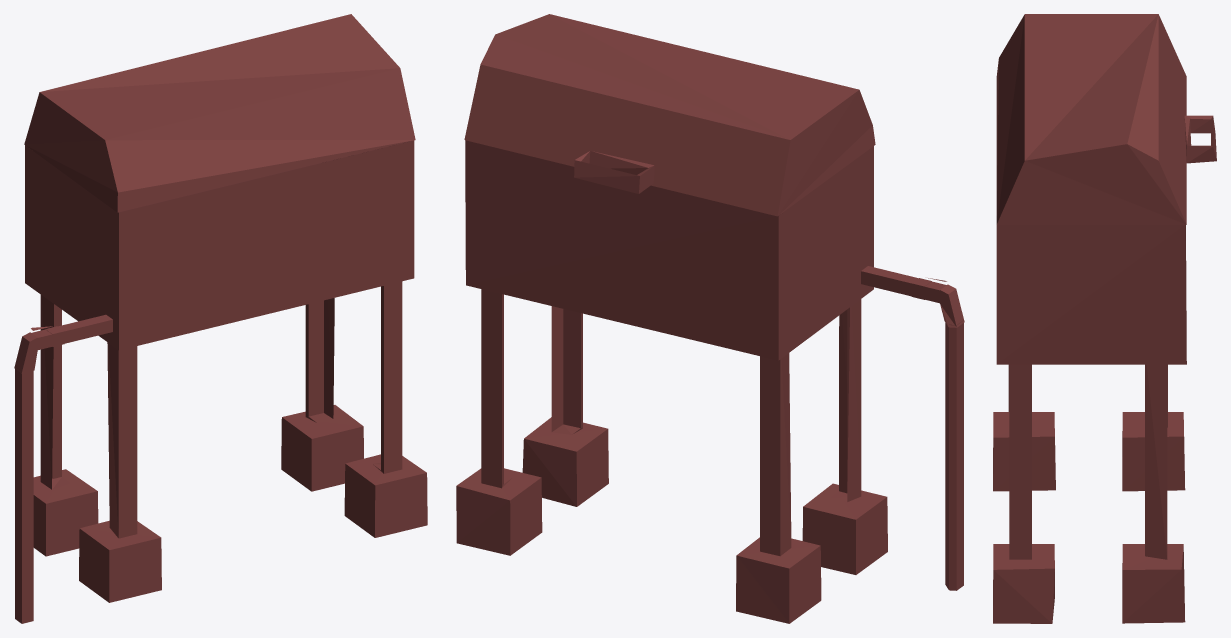
File: hose-reel.lod1.glb
3 views of the same model, side by side, from view 1: azimuth 30°, elevation 25°; view 2: azimuth 150°, elevation 25°; view 3: azimuth 270°, elevation 25° (orthographic). The views are drawn at different scales.
Visible parts, largest first — view 1: Cube.037_Material.024_0; view 2: Cube.037_Material.024_0; view 3: Cube.037_Material.024_0.
Part boxes in pixels (x1,y1,x2,y2): Cube.037_Material.024_0: (14, 14, 427, 623); Cube.037_Material.024_0: (456, 14, 964, 623); Cube.037_Material.024_0: (993, 14, 1216, 623).
Bounding box in the file's own units: 1.39 × 1.57 × 0.6637.
